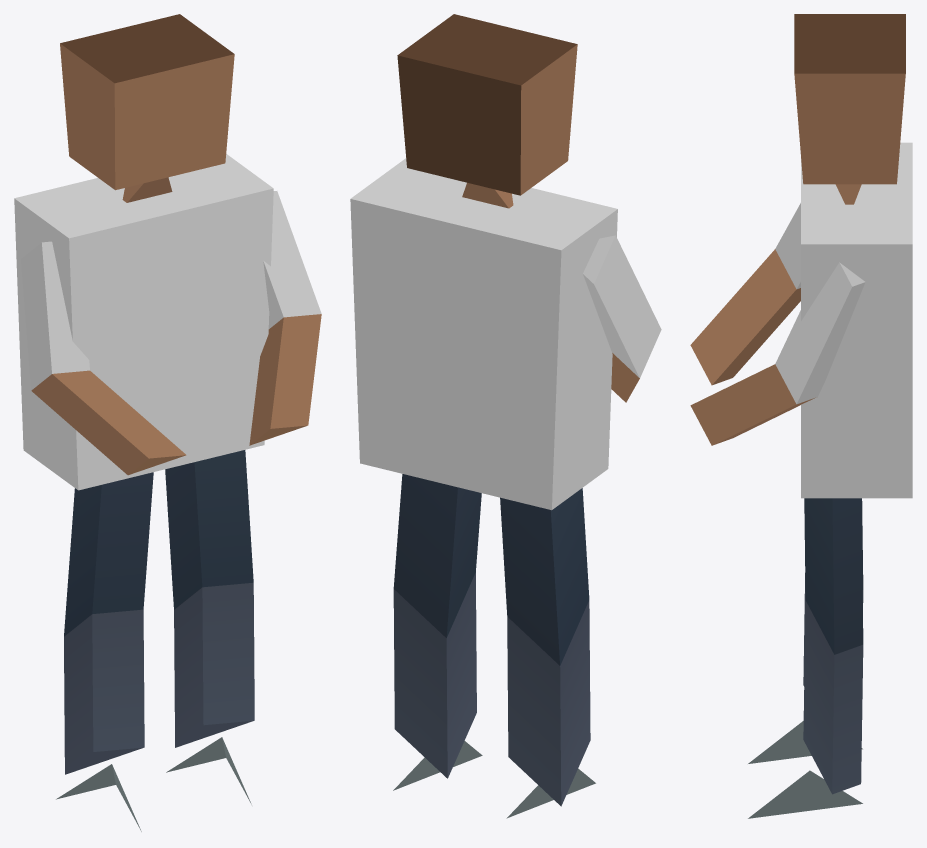
File: fan-09.glb
The picture shows the model from 3 angles, left to right: view 1: azimuth 30°, elevation 25°; view 2: azimuth 150°, elevation 25°; view 3: azimuth 270°, elevation 25°; orthographic projection. The views are drawn at different scales.
Visible parts, largest first — view 1: fan-09; view 2: fan-09; view 3: fan-09.
Part boxes in pixels (x1=…): fan-09: x1=14, y1=14, x2=321, y2=831; fan-09: x1=350, y1=14, x2=661, y2=818; fan-09: x1=690, y1=14, x2=912, y2=818.
Bounding box in the file's own units: 0.7375 × 1.85 × 0.4978.
